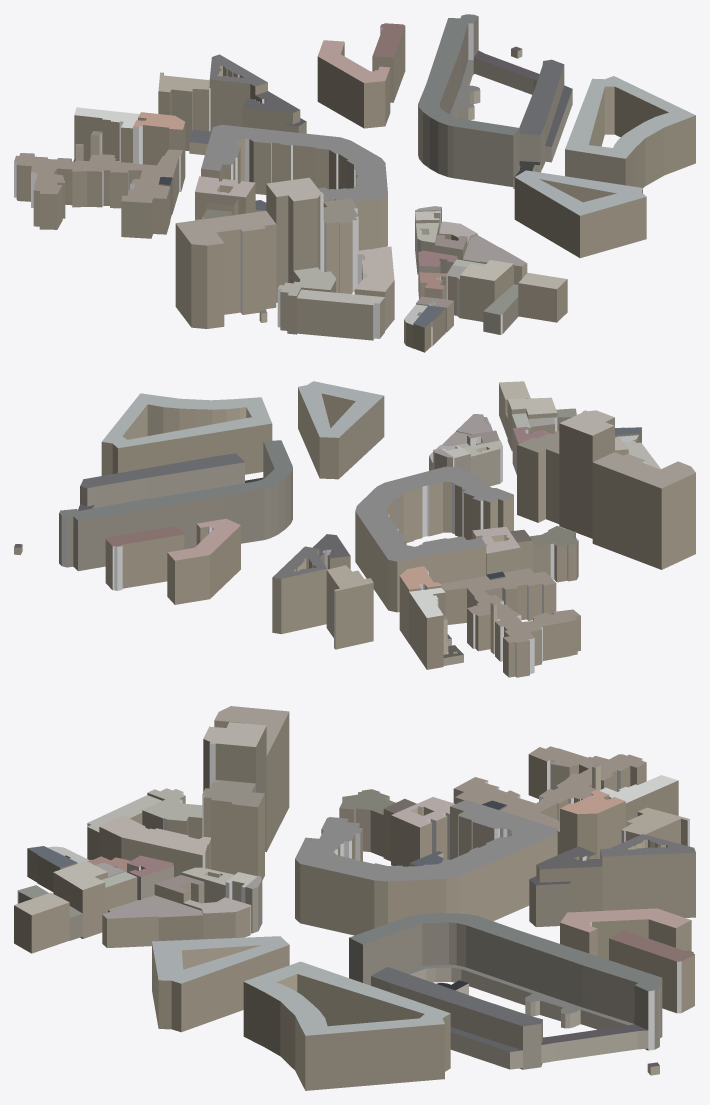
3 renders of one model, top to bottom at view 1: azimuth 30°, elevation 25°; view 2: azimuth 150°, elevation 25°; view 3: azimuth 270°, elevation 25°, orthographic. The views are drawn at different scales.
Parts seen in each view (by area): view 1: tuile; view 2: tuile; view 3: tuile.
Boxes of the visible parts, bbox=[...] form: tuile: bbox=[14, 14, 695, 352]; tuile: bbox=[14, 381, 695, 677]; tuile: bbox=[14, 706, 695, 1090].
Size of the model in its own units: 294 by 55.97 by 273.
